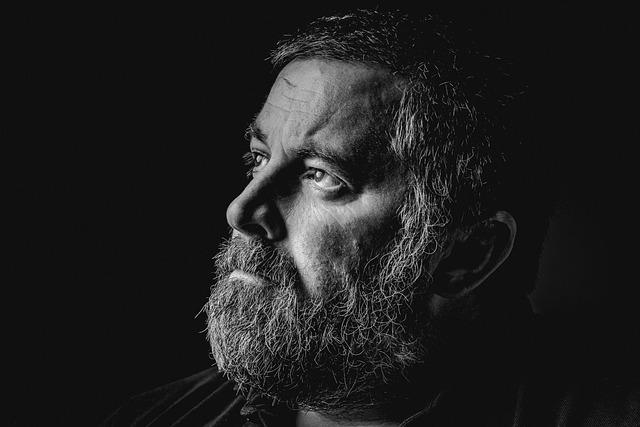Non_Gorille: (150, 11, 555, 427)
